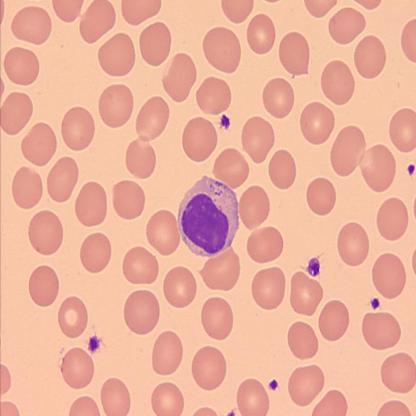Atypical lymphocyte: (179, 176, 242, 259)
